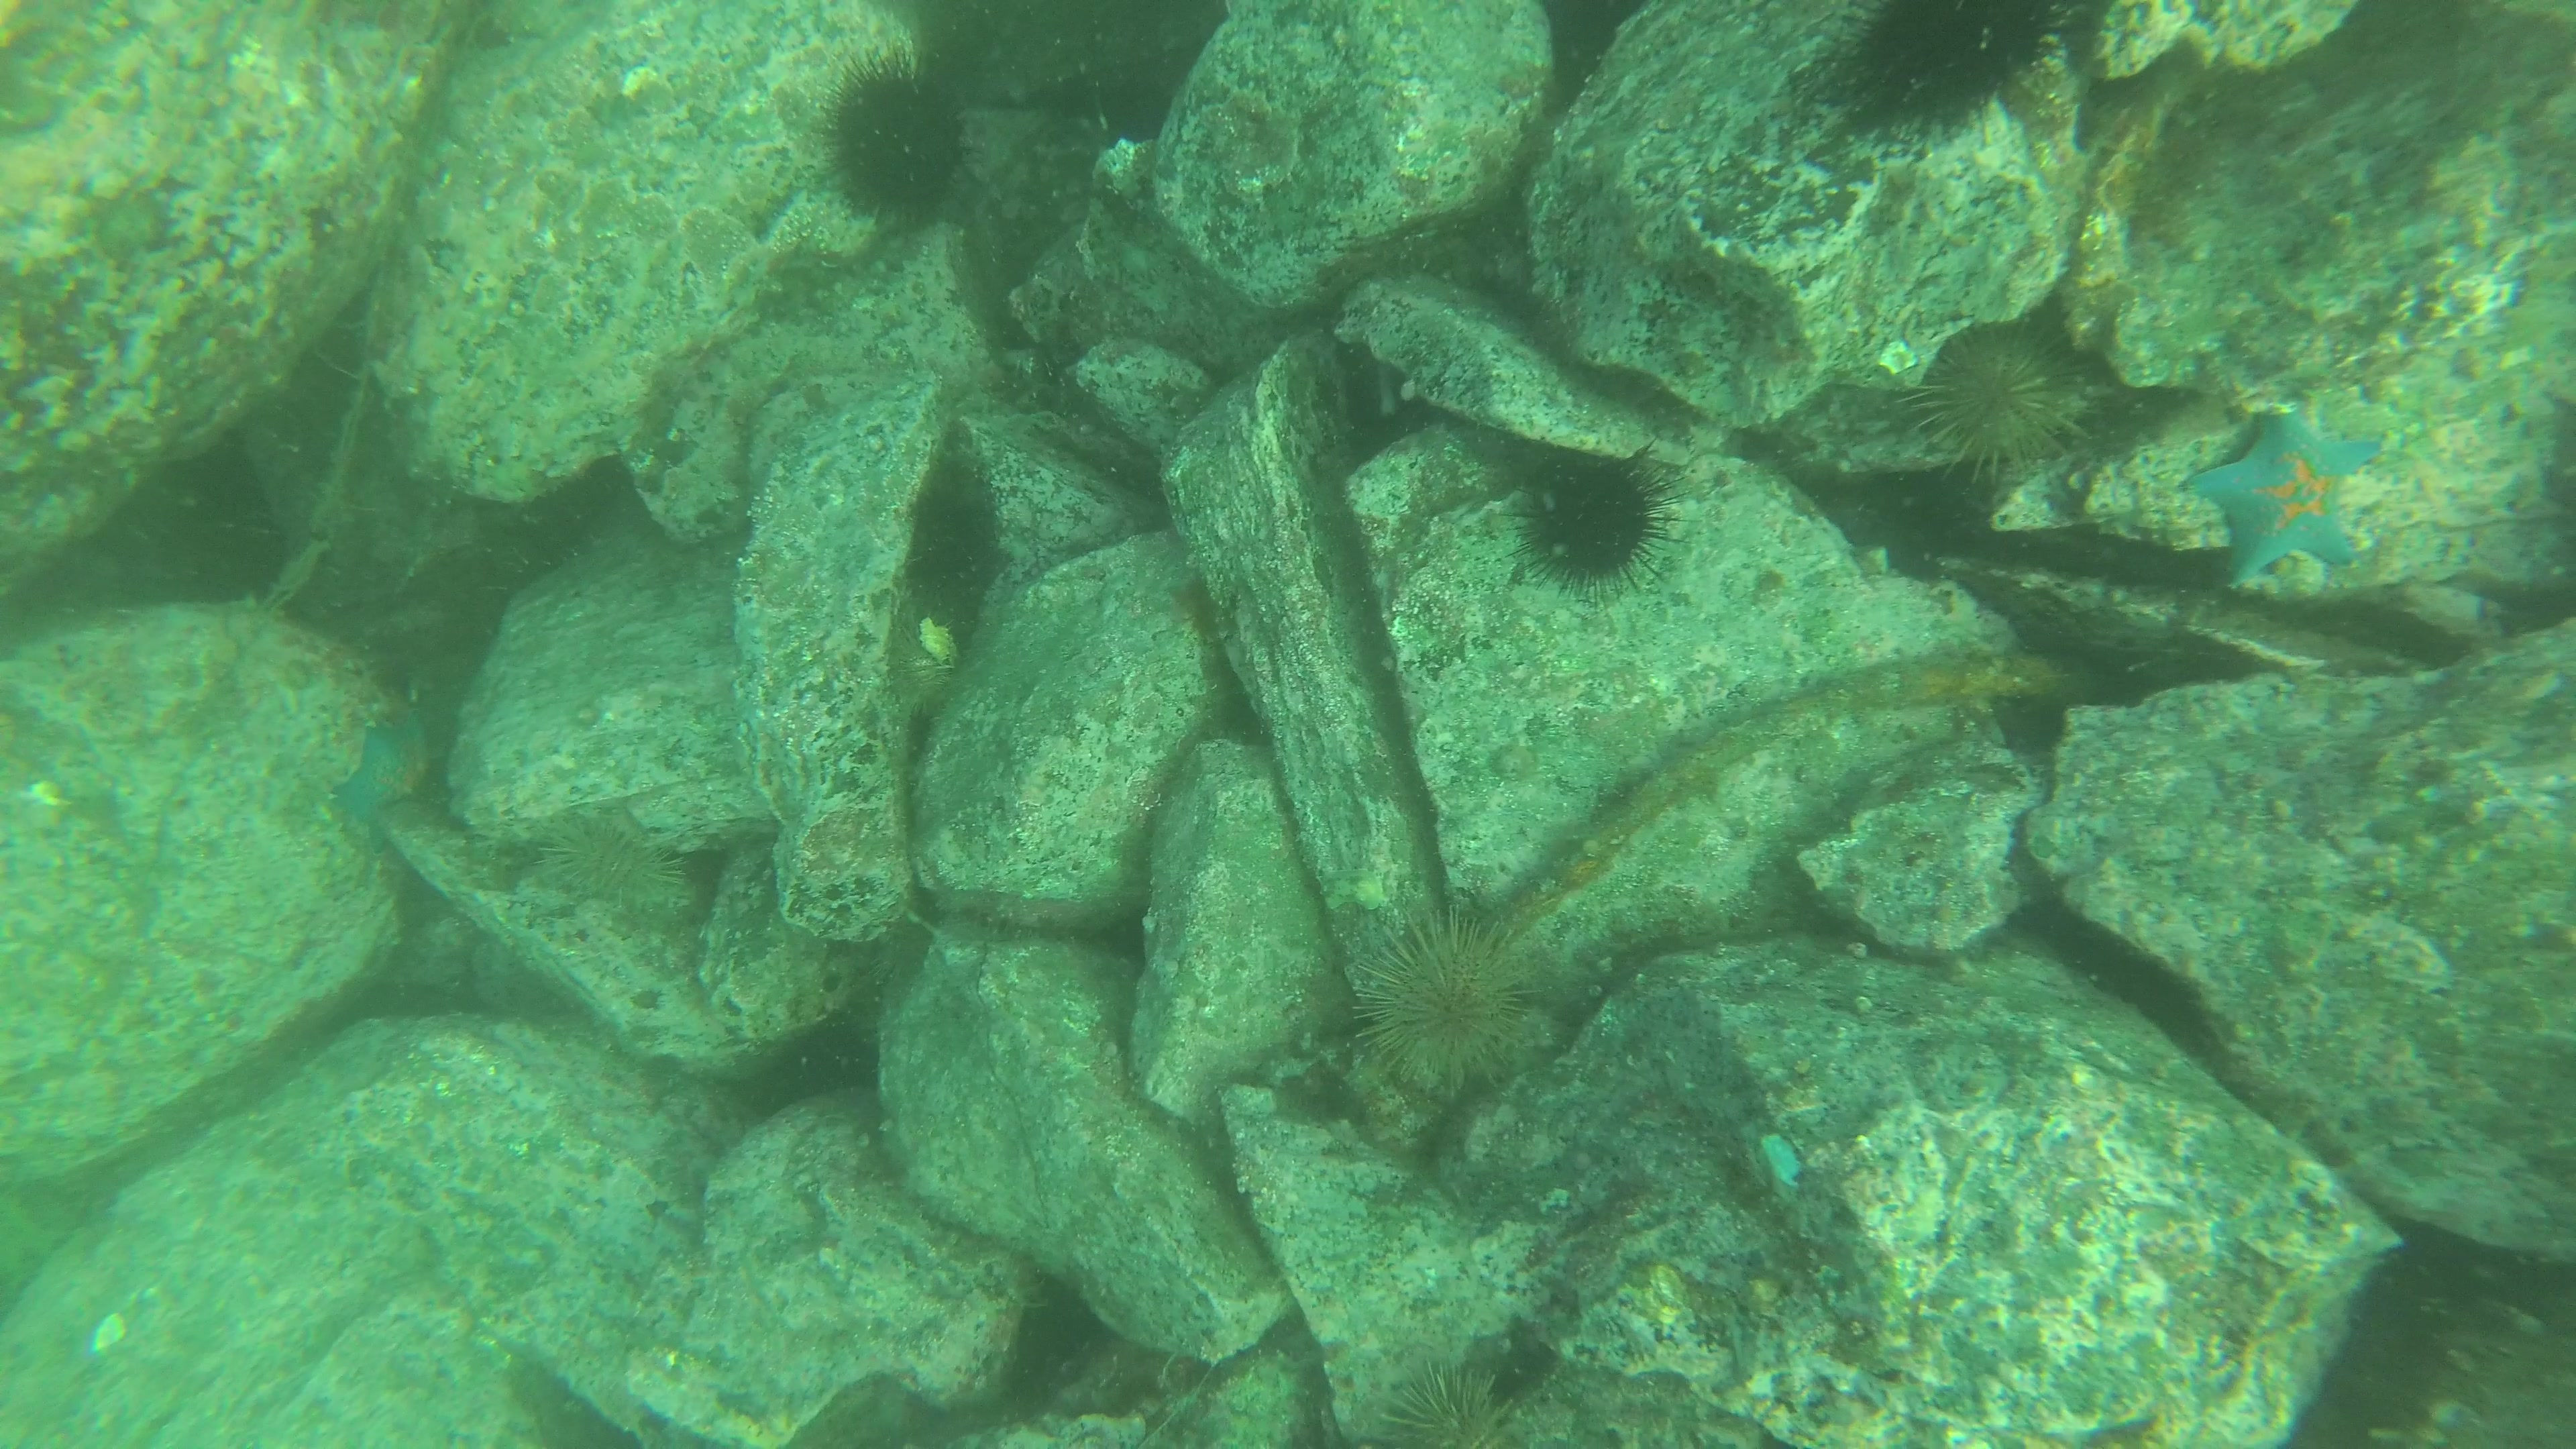echinus: (1348, 904, 1545, 1085), (1831, 9, 2104, 131), (1918, 311, 2086, 472), (1523, 439, 1672, 600), (823, 48, 970, 205), (1366, 1364, 1557, 1449)
starfish: (2181, 398, 2401, 586), (345, 725, 446, 846)
